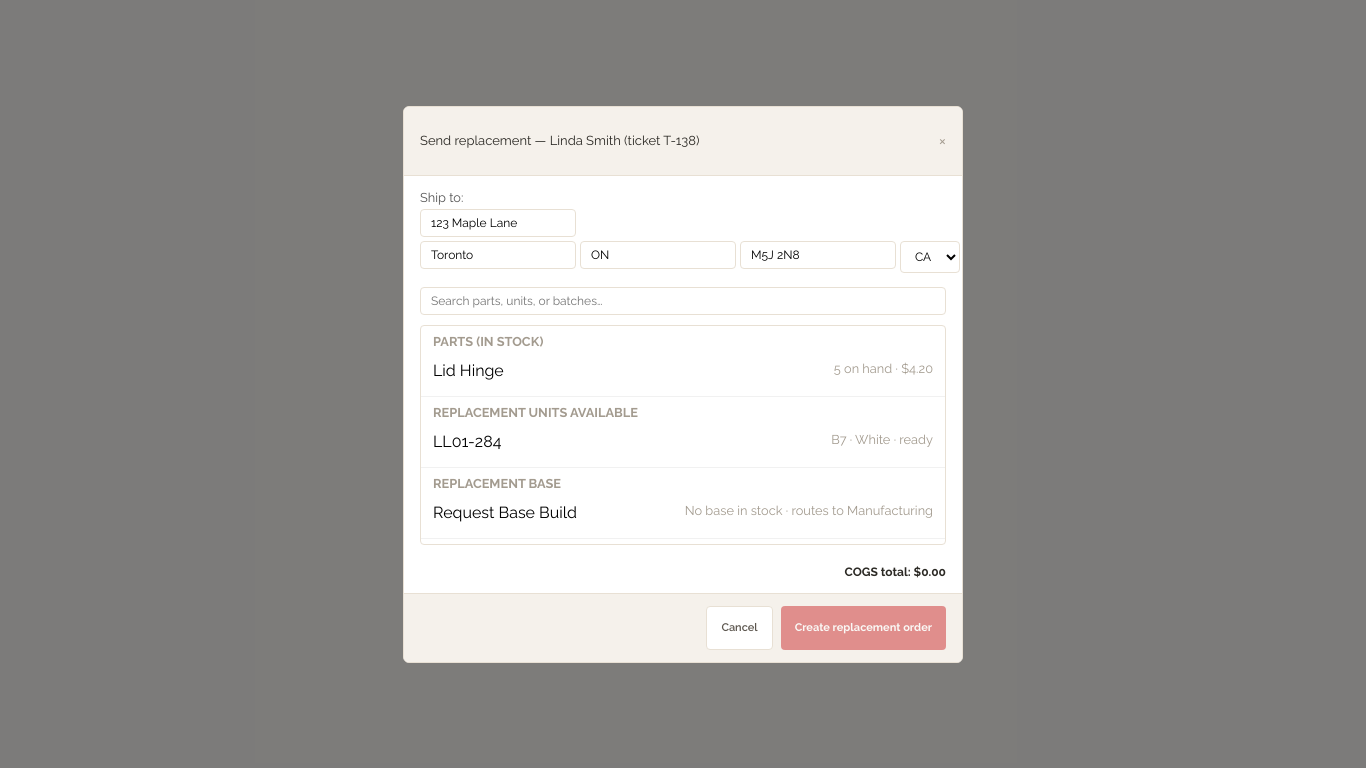
Test case: ReplacementPickerModal › adds parts to cart and recomputes COGS on qty change
The width and height of the screenshot is (1366, 768).
Click the text "Lid Hinge" at point(468, 370), box [433, 360, 504, 380]
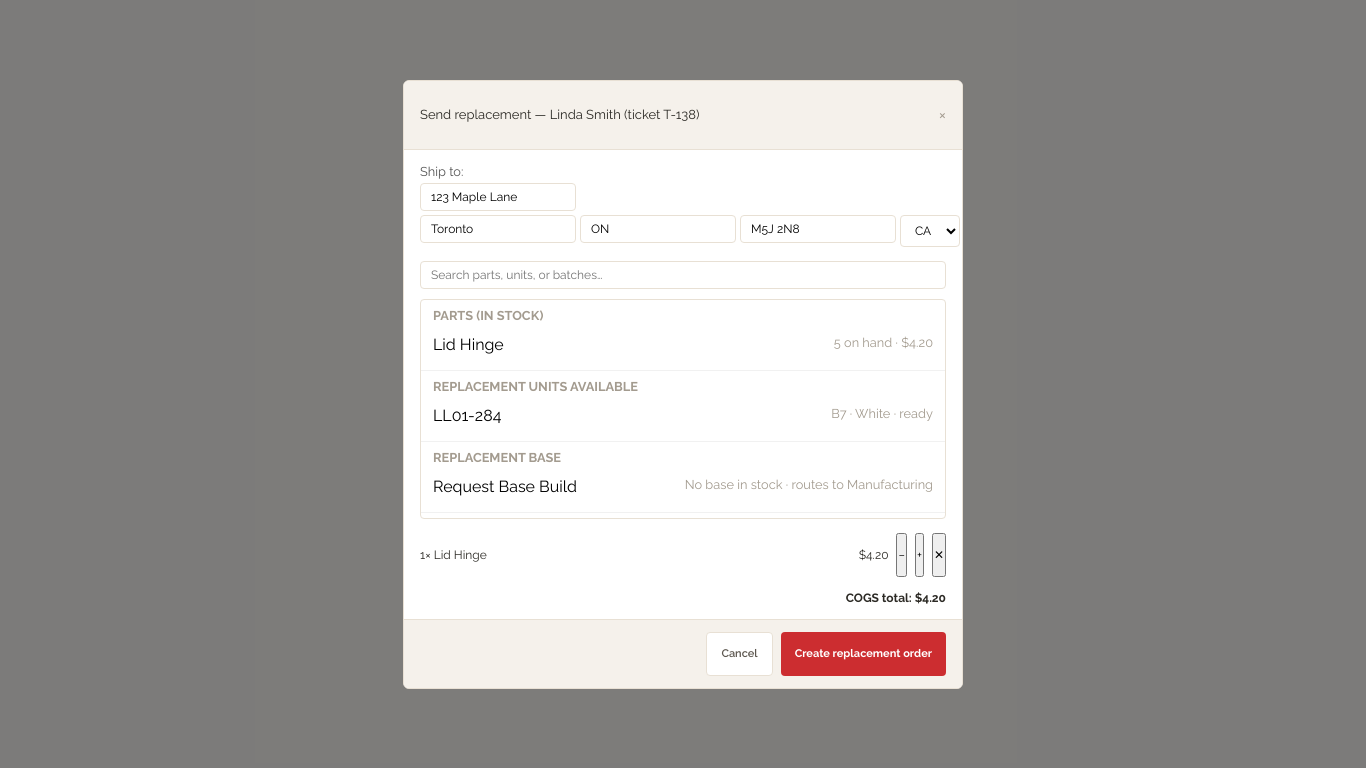
Expected: the text "COGS total: $4.20" is shown, [846, 590, 946, 604]
Click the button named "Increase Lid Hinge qty" at point(920, 554), box [915, 532, 924, 576]
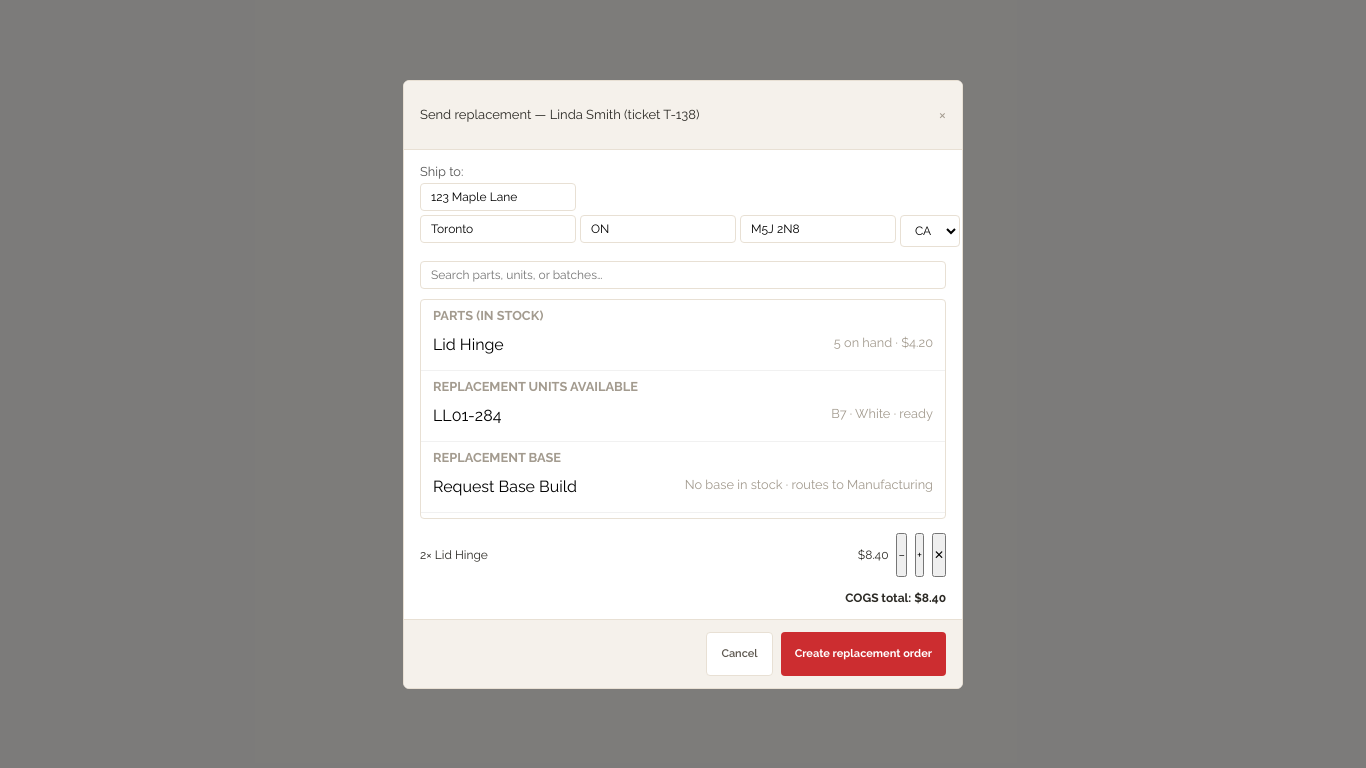
Expected: the text "COGS total: $8.40" is shown, [845, 590, 946, 604]
